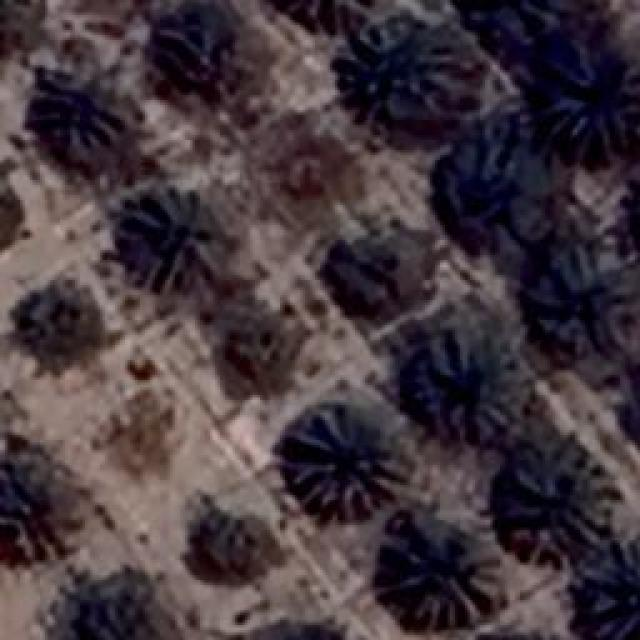PalmTree: (437, 124, 555, 264), (282, 402, 410, 522), (378, 528, 500, 630), (340, 19, 460, 122), (500, 448, 610, 560), (35, 74, 145, 172), (51, 567, 191, 640), (418, 340, 518, 440), (530, 250, 628, 350), (547, 42, 635, 148), (452, 0, 597, 64), (132, 190, 225, 288), (0, 442, 78, 552), (186, 506, 284, 582), (334, 228, 416, 312), (166, 13, 256, 86), (570, 540, 635, 640), (28, 281, 92, 359), (265, 0, 380, 36), (0, 0, 47, 59), (234, 618, 348, 640)
